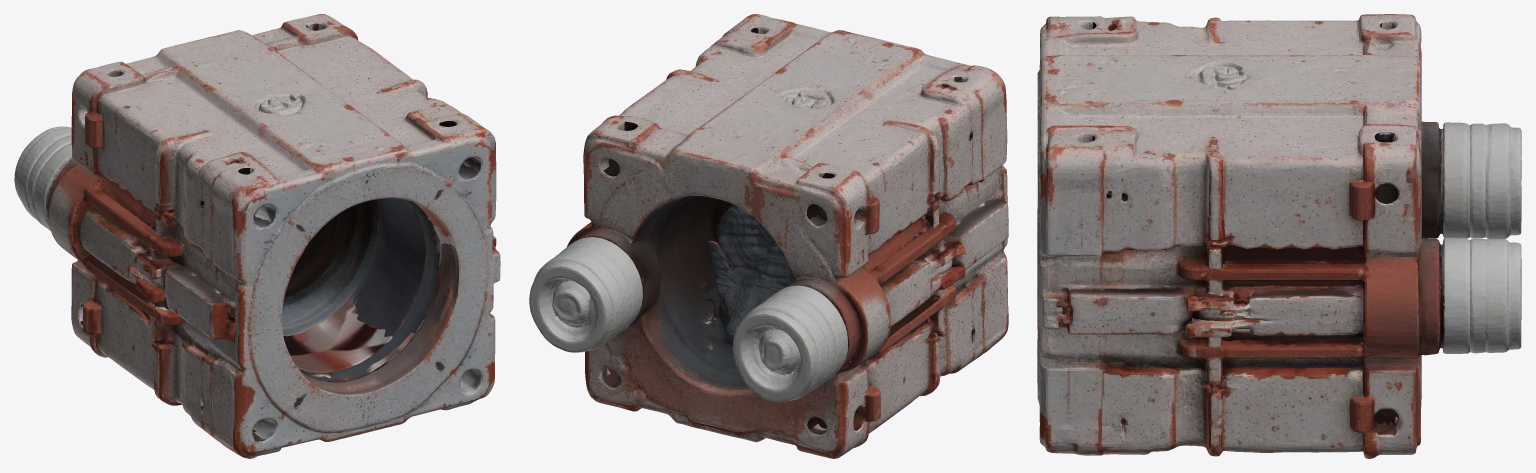
The model's file is wing (1).glb.
3 views of the same model, side by side, from view 1: azimuth 30°, elevation 25°; view 2: azimuth 150°, elevation 25°; view 3: azimuth 270°, elevation 25° (orthographic). The views are drawn at different scales.
Parts seen in each view (by area): view 1: Hy21_Mesh.obj; view 2: Hy21_Mesh.obj; view 3: Hy21_Mesh.obj.
Boxes of the visible parts, left/top/right/bottom form: Hy21_Mesh.obj: left=14, top=14, right=500, bottom=458; Hy21_Mesh.obj: left=529, top=14, right=1008, bottom=458; Hy21_Mesh.obj: left=1037, top=14, right=1521, bottom=458.
Size of the model in its own units: 1.62 by 1.4 by 1.96.
1 material, 1 textured.
